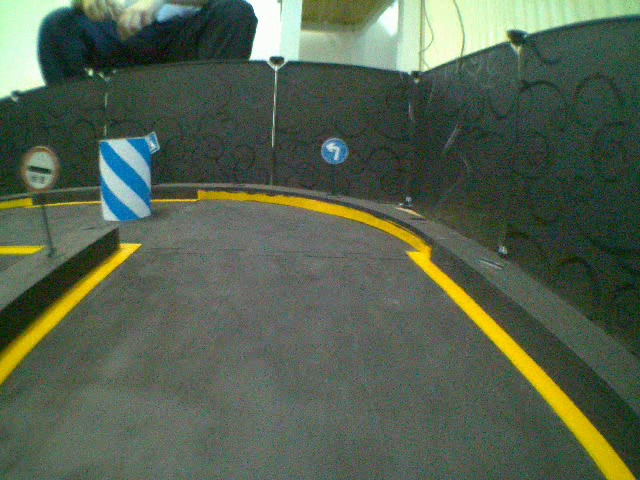bucket: (96, 134, 156, 226)
